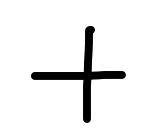plus: (30, 26, 126, 124)
